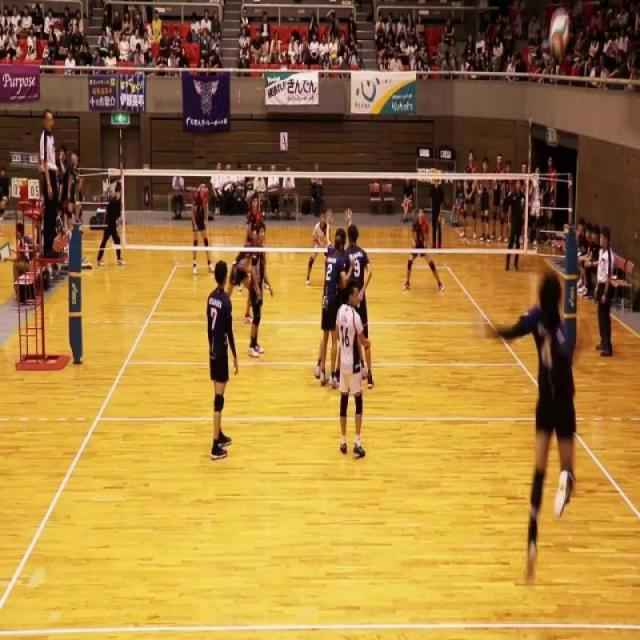volleyball: (548, 5, 571, 60)
